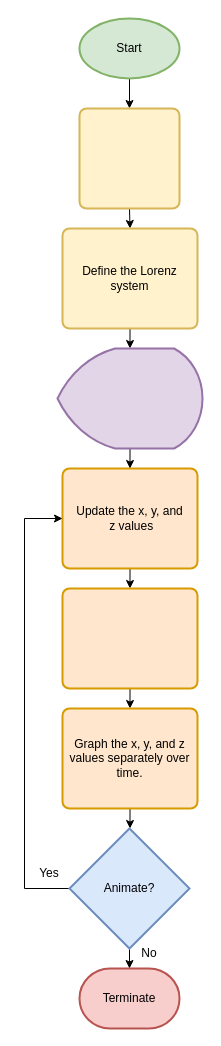
Some shapes in this 221 by 1046 pixel diagram are drawn without their labels. Each missing label, with the box of its shape:
Define initial values: (78, 107, 180, 209)
Get input from the user.: (56, 347, 203, 449)
Graph the Lorenz system over time: (61, 587, 198, 689)
